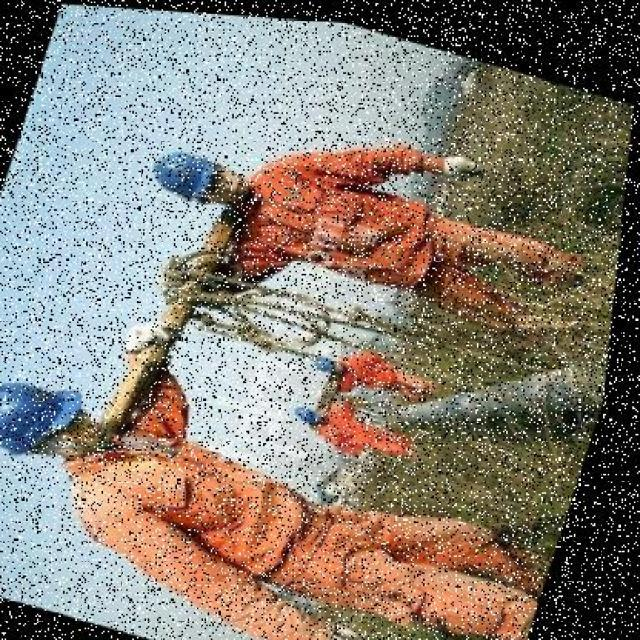helmet: (0, 360, 100, 464), (153, 139, 227, 201), (298, 395, 328, 419), (321, 349, 343, 365)
vest: (68, 415, 351, 579), (234, 160, 432, 278), (321, 399, 389, 447), (343, 345, 406, 387)
